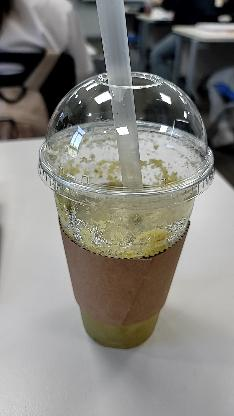Plastic Cup: (36, 69, 218, 351), (38, 68, 216, 209), (90, 1, 156, 192)
